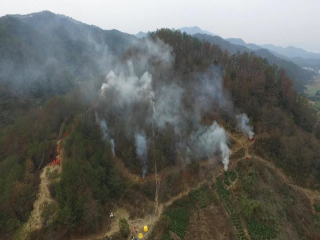smoke: (84, 36, 255, 177)
